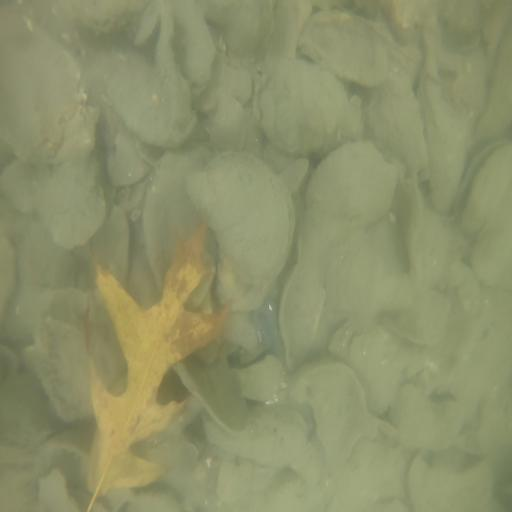Oyster-Closed: (292, 358, 399, 478), (187, 162, 291, 282), (34, 292, 129, 422), (261, 59, 363, 159), (39, 110, 105, 249), (108, 53, 200, 150), (307, 144, 395, 225), (206, 403, 312, 470), (328, 319, 402, 411), (368, 62, 428, 170), (419, 73, 464, 210), (329, 440, 410, 512), (175, 355, 249, 432), (282, 243, 325, 370), (189, 1, 275, 57), (409, 457, 496, 512), (394, 386, 463, 450), (476, 26, 512, 145), (475, 231, 512, 289)
Oyster-Open: (455, 137, 512, 239)
